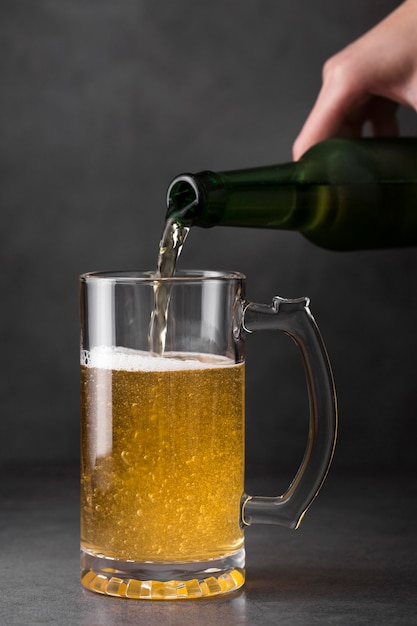alcohol: (79, 272, 339, 605), (163, 138, 417, 249)
